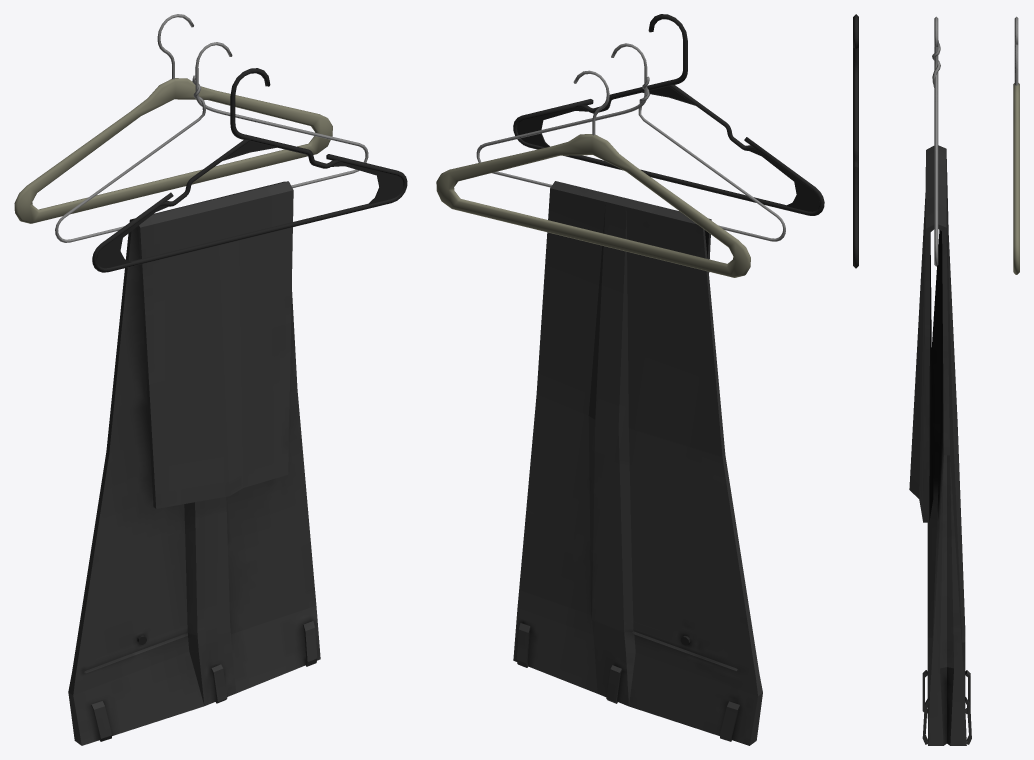
File: hangers_and_pants_lo.glb
3 views of the same model, side by side, from view 1: azimuth 30°, elevation 25°; view 2: azimuth 150°, elevation 25°; view 3: azimuth 270°, elevation 25° (orthographic). The views are drawn at different scales.
Parts seen in each view (by area): view 1: Object_2; view 2: Object_2; view 3: Object_2.
Boxes of the visible parts, x1,y1,x2,y2 form: Object_2: [14, 14, 407, 745]; Object_2: [436, 14, 824, 745]; Object_2: [853, 14, 1019, 745].
Bounding box in the file's own units: 0.3941 × 0.8 × 0.1699.
Materials: 4 (1 with a texture image).
